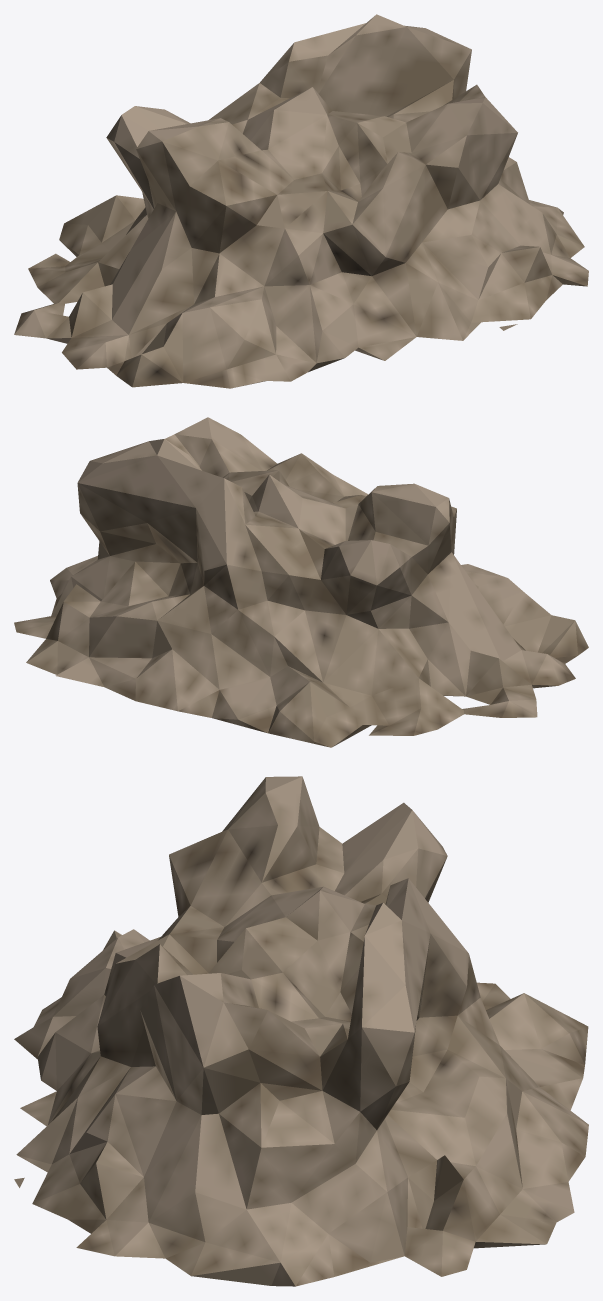
The model's file is SM_MeshyRubblePile.fbx.
3 views of the same model, one above another, from view 1: azimuth 30°, elevation 25°; view 2: azimuth 150°, elevation 25°; view 3: azimuth 270°, elevation 25° (orthographic). The views are drawn at different scales.
Visible parts, largest first — view 1: SM_MeshyRubblePile; view 2: SM_MeshyRubblePile; view 3: SM_MeshyRubblePile.
Part boxes in pixels (x1,y1,x2,y2): SM_MeshyRubblePile: (14, 14, 588, 388); SM_MeshyRubblePile: (14, 417, 588, 747); SM_MeshyRubblePile: (14, 776, 588, 1286).
Size of the model in its own units: 1.22 by 0.4794 by 0.8516.
1 material, 1 textured.
